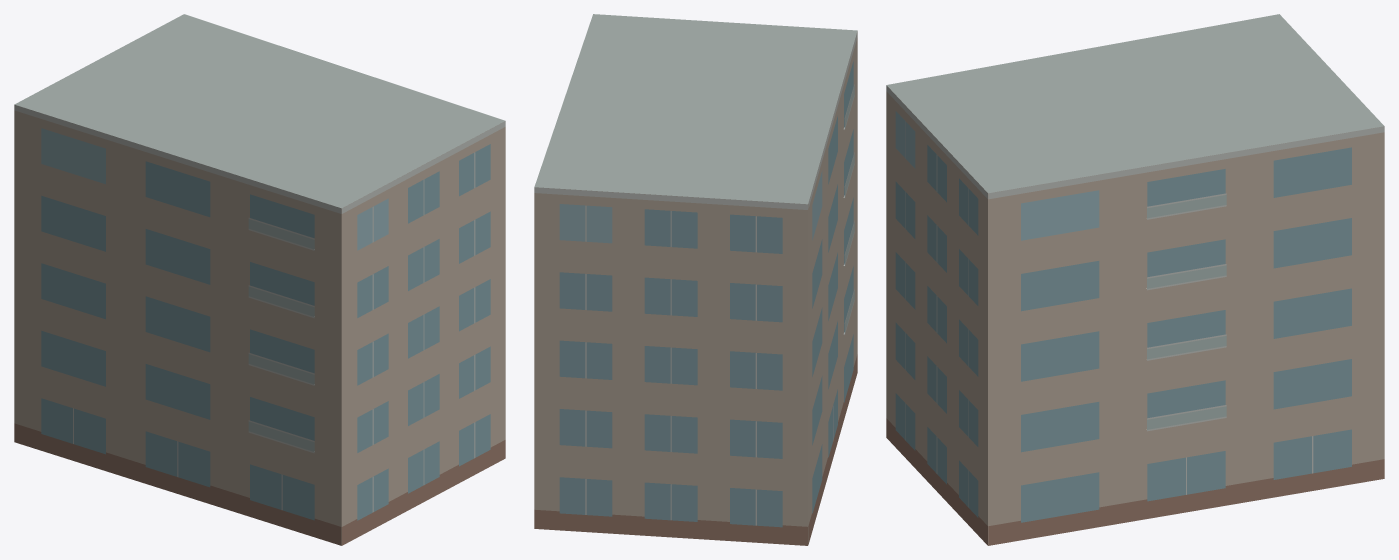
The model's file is survey-upis-32881760.glb.
3 views of the same model, side by side, from view 1: azimuth 30°, elevation 25°; view 2: azimuth 150°, elevation 25°; view 3: azimuth 270°, elevation 25° (orthographic). The views are drawn at different scales.
Parts seen in each view (by area): view 1: survey-upis-32881760.tmp; view 2: survey-upis-32881760.tmp; view 3: survey-upis-32881760.tmp.
Boxes of the visible parts, bbox=[...] form: survey-upis-32881760.tmp: bbox=[14, 14, 505, 545]; survey-upis-32881760.tmp: bbox=[534, 14, 857, 545]; survey-upis-32881760.tmp: bbox=[886, 14, 1384, 545].
Size of the model in its own units: 15.56 by 14.25 by 18.27.
